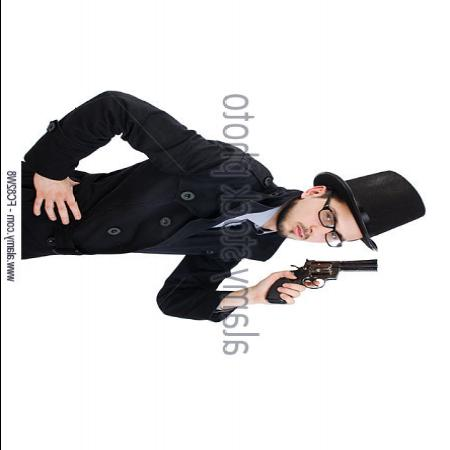Pistol: (266, 256, 378, 306)
